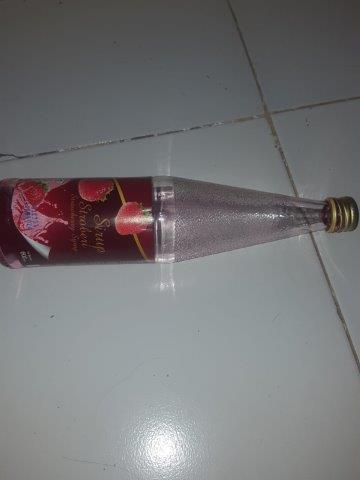botolkaca: (2, 178, 360, 268)
